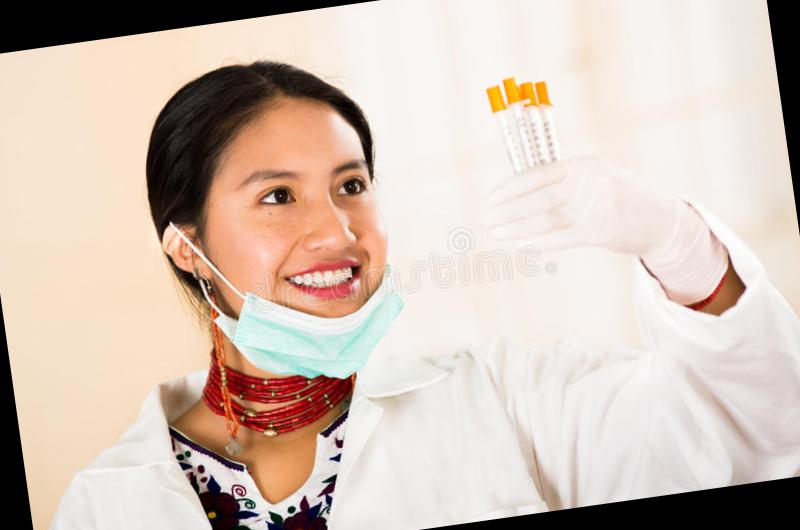mask_weared_incorrect: (228, 143, 404, 371)
